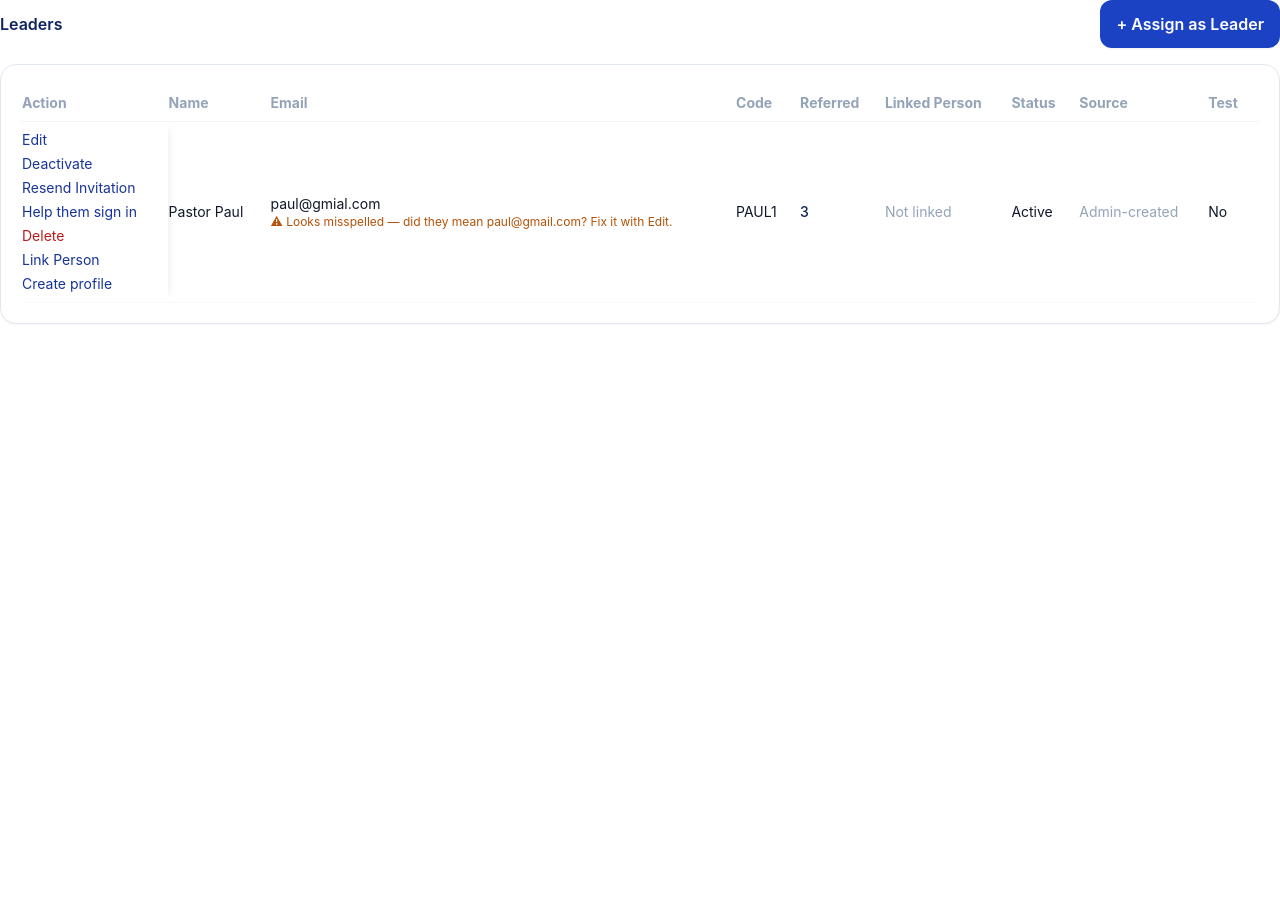
Test: Help them sign in — Leaders list › helps a leader who is not in People, with the email they sign in with
Expected: the text "did they mean paul@gmail.com" is shown, 270,214 -> 672,229
Click the button "Help them sign in". click: click(79, 212)
box: 22,202 -> 137,222
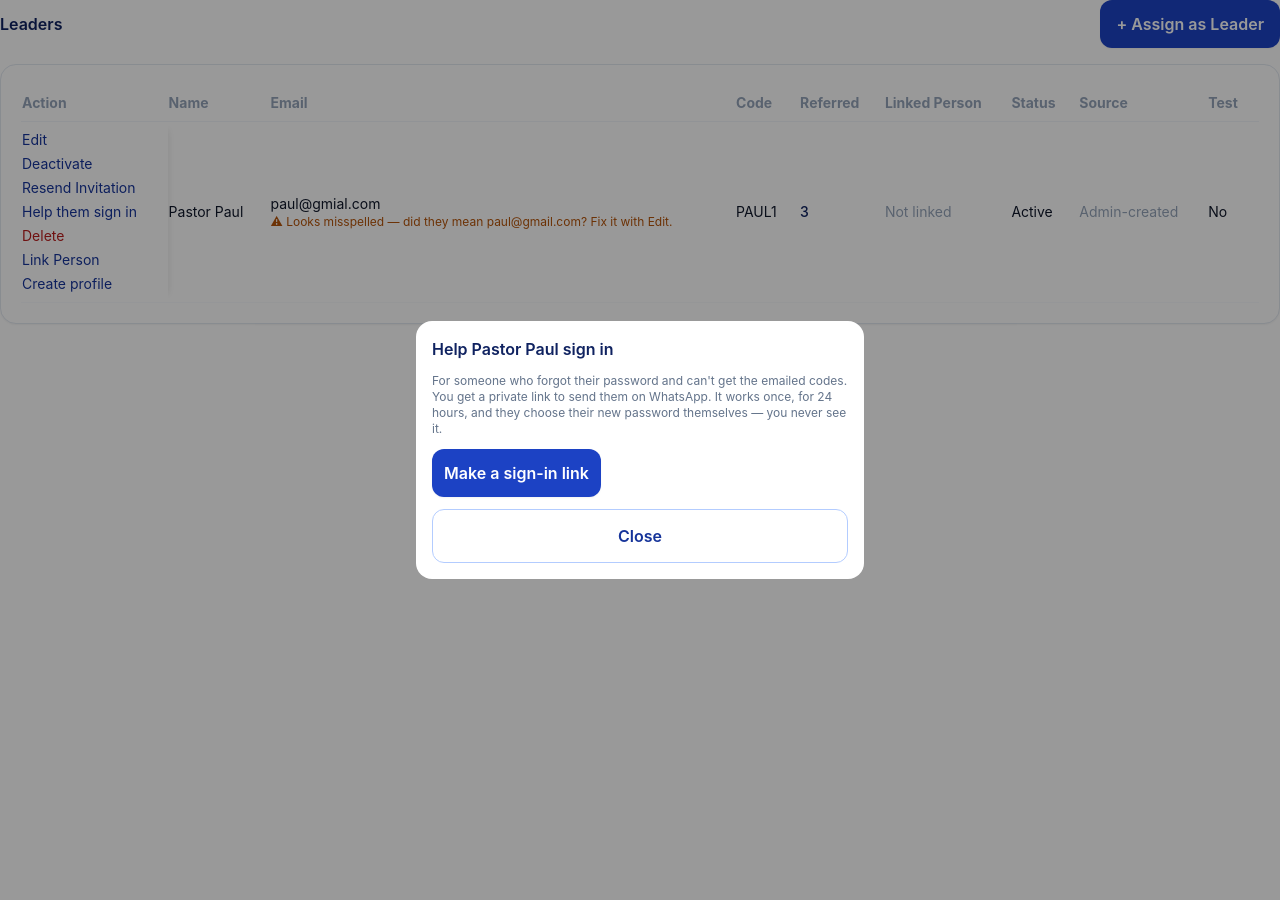
Expected: the heading "Help Pastor Paul sign in" is shown, 432,339 -> 614,359
Click the button "Make a sign-in link". click: click(516, 473)
box: 432,449 -> 601,497
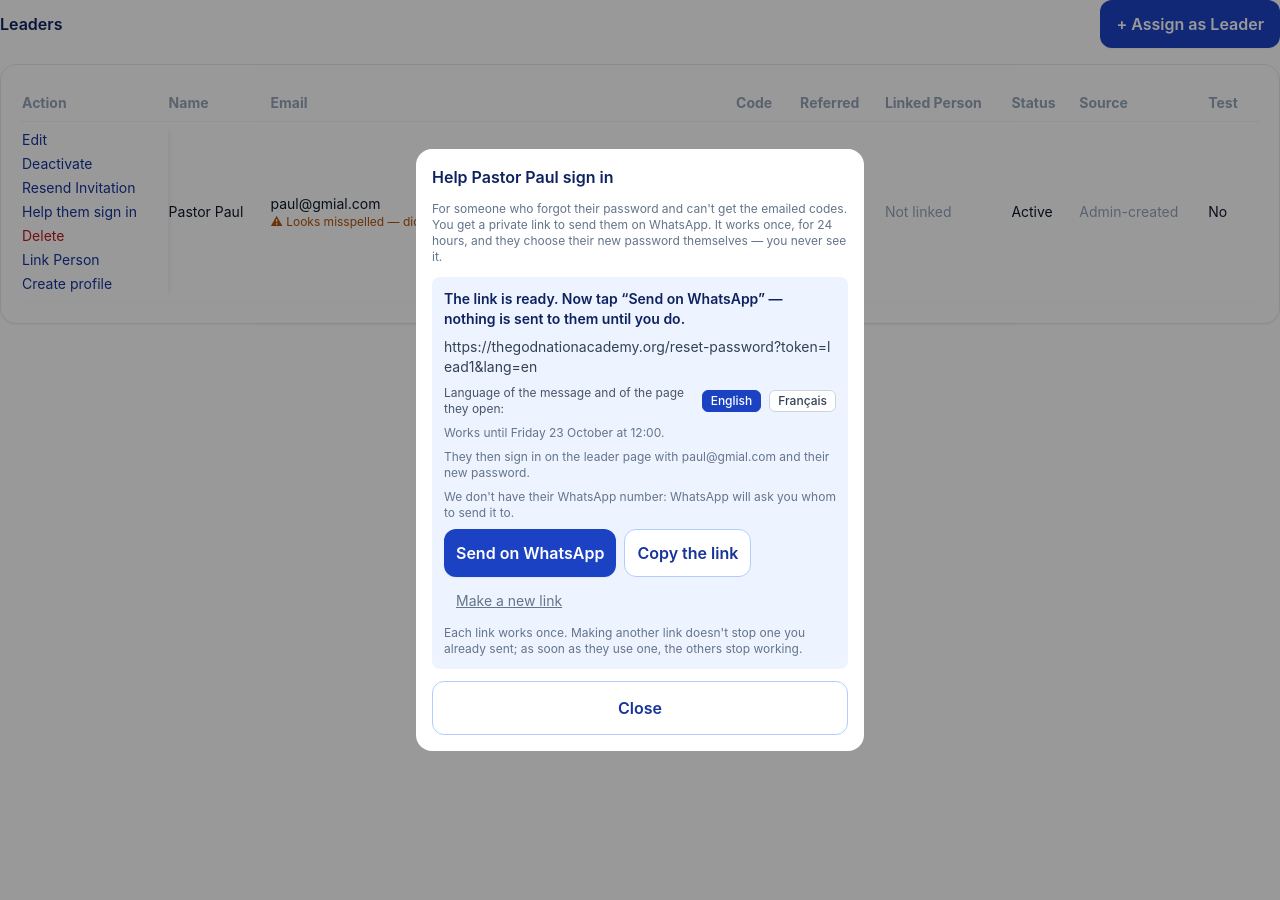
Expected: the text with test id "sign-in-help-url" shows "/reset-password?token=lead1", 444,338 -> 830,375
Expected: the text "sign in on the leader page with paul@gmial.com" is shown, 444,449 -> 829,480
Expected: the text "WhatsApp will ask you whom to send it to" is shown, 444,489 -> 836,520
